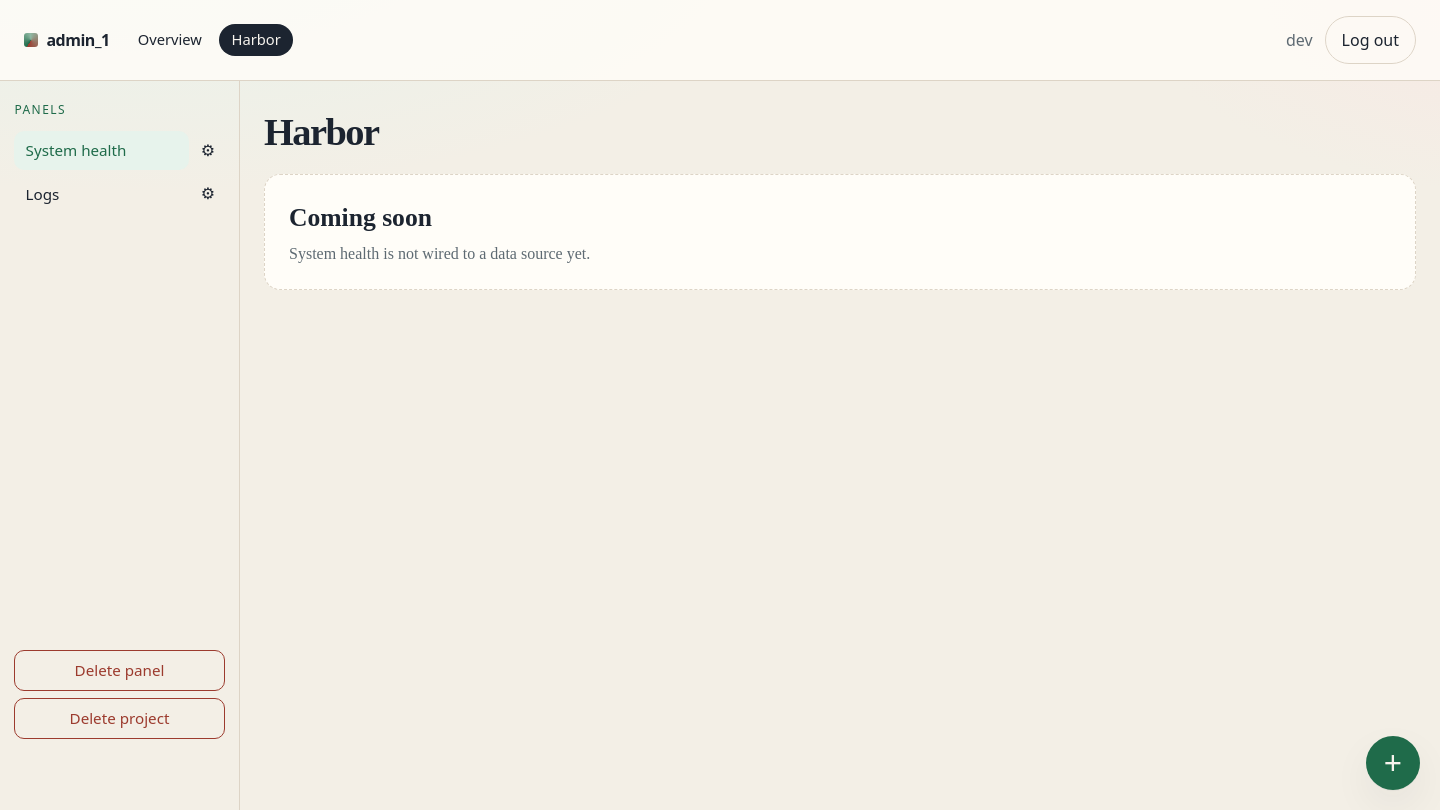
Test case: panel settings › keeps data source configuration on the settings route
Expected: the heading "Harbor" is shown, [264,111,378,153]
Expected: the heading "Coming soon" is shown, [289,203,432,232]
Step 1. Click the link named "System health settings" → (208, 150), box [201,142,215,159]
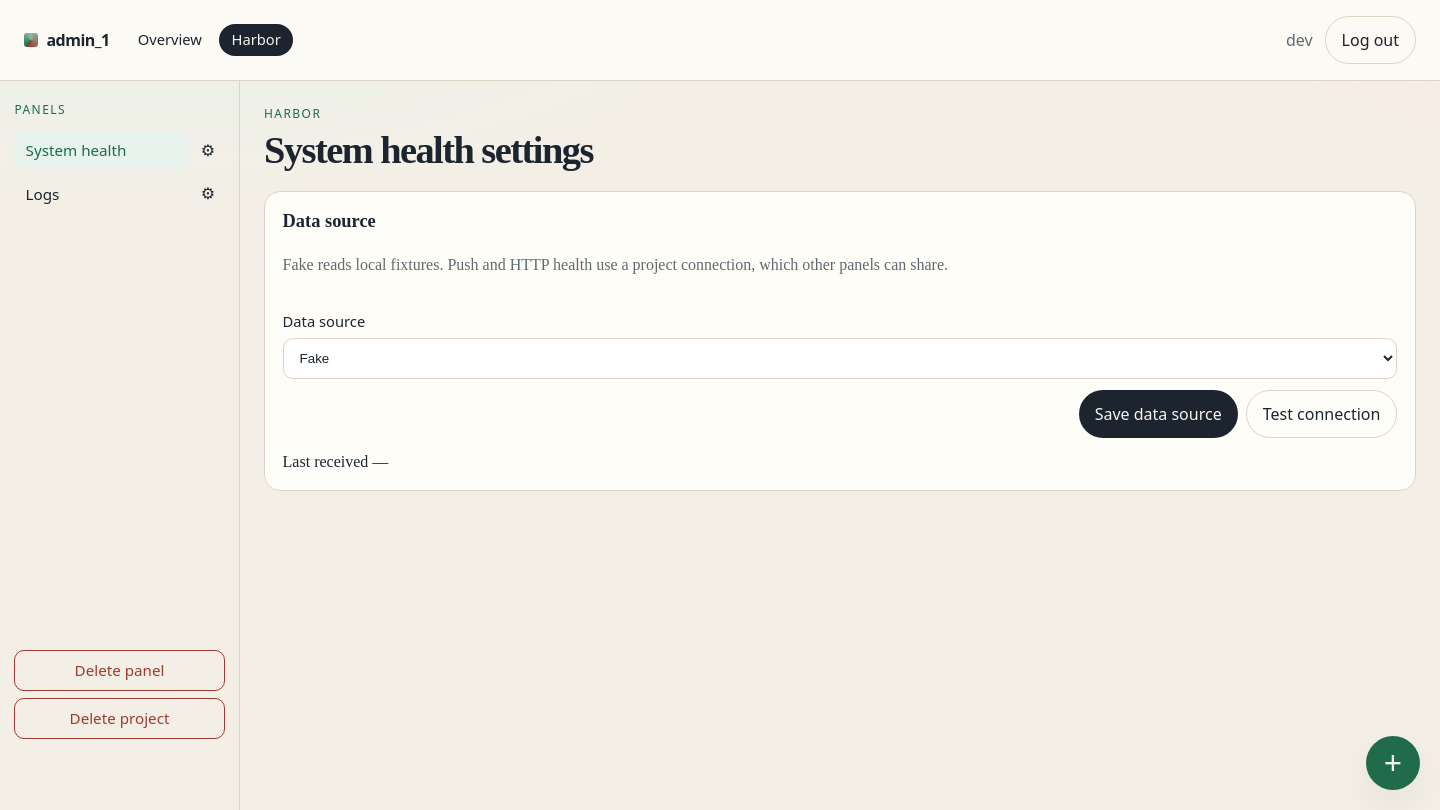
Expected: the text "a1_harborKeySECRET" is not shown
Expected: the heading "System health settings" is shown, [264,129,593,171]
Expected: the dropdown labelled "Data source" shows "Fake"
Step 2. Select "Push" in the dropdown labelled "Data source" → (840, 358), box [283,338,1397,379]
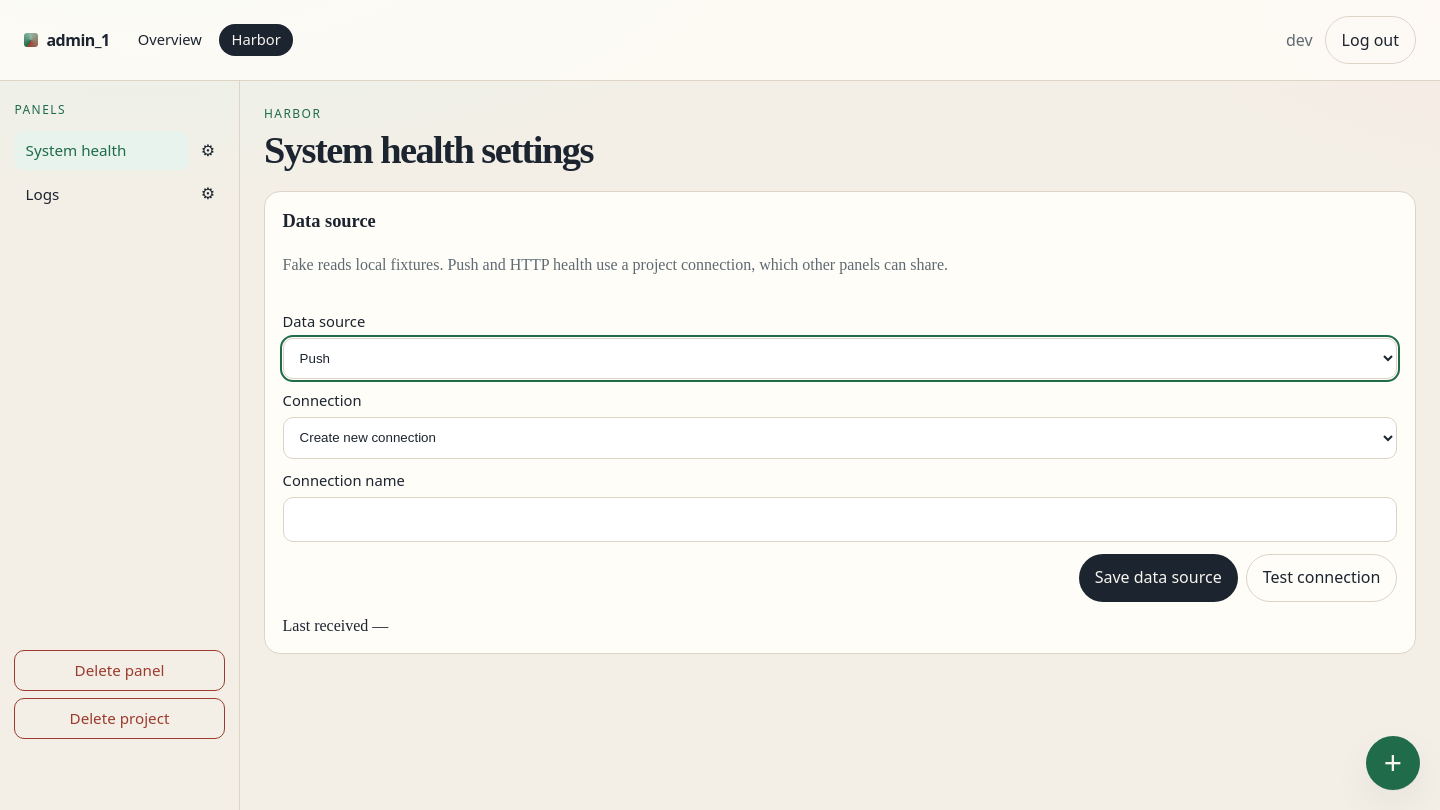
Step 3. Type "Harbor app" into the field labelled "Connection name" → (840, 519), box [283,497,1397,542]
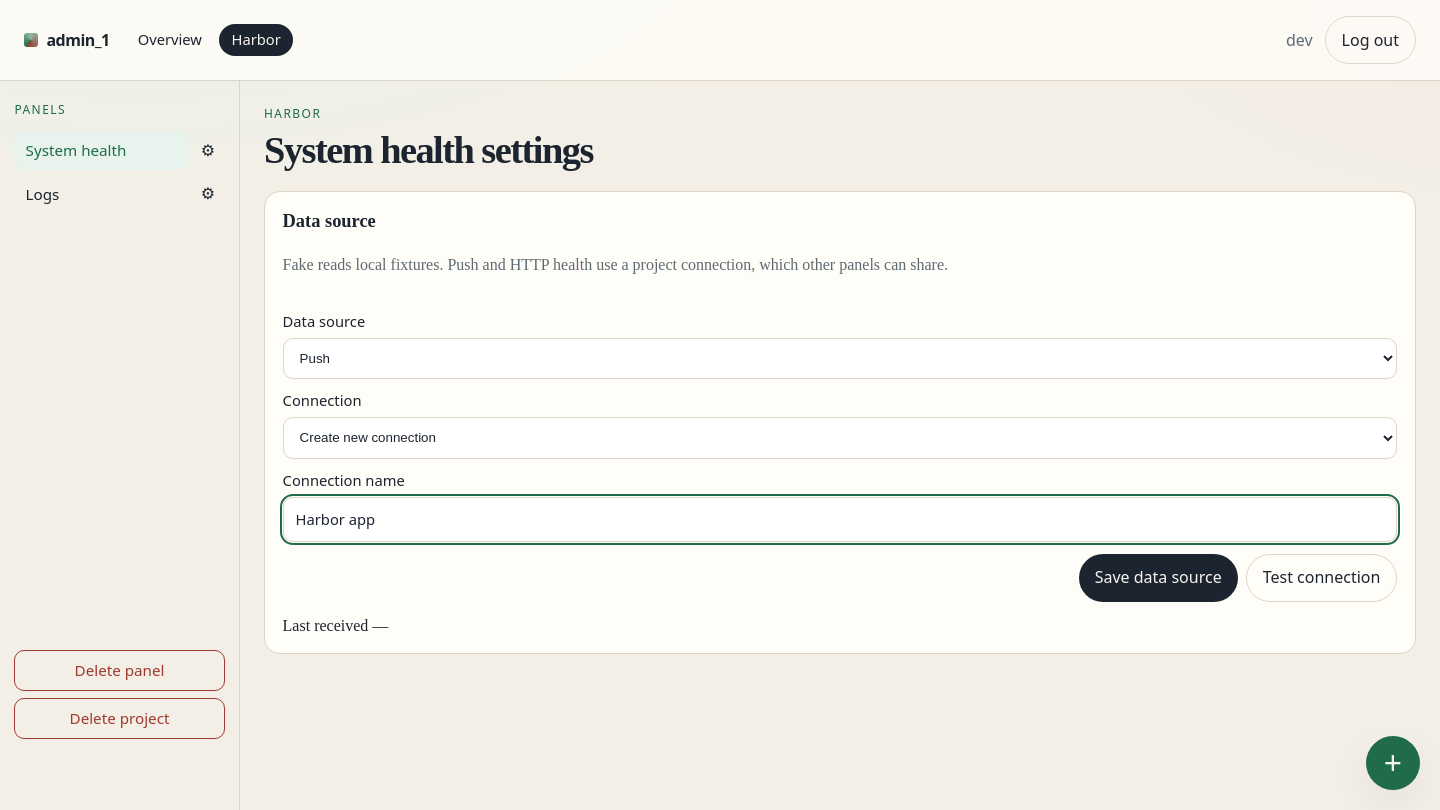
Step 4. Click the button "Save data source" → (1158, 578), box [1079,554,1238,602]
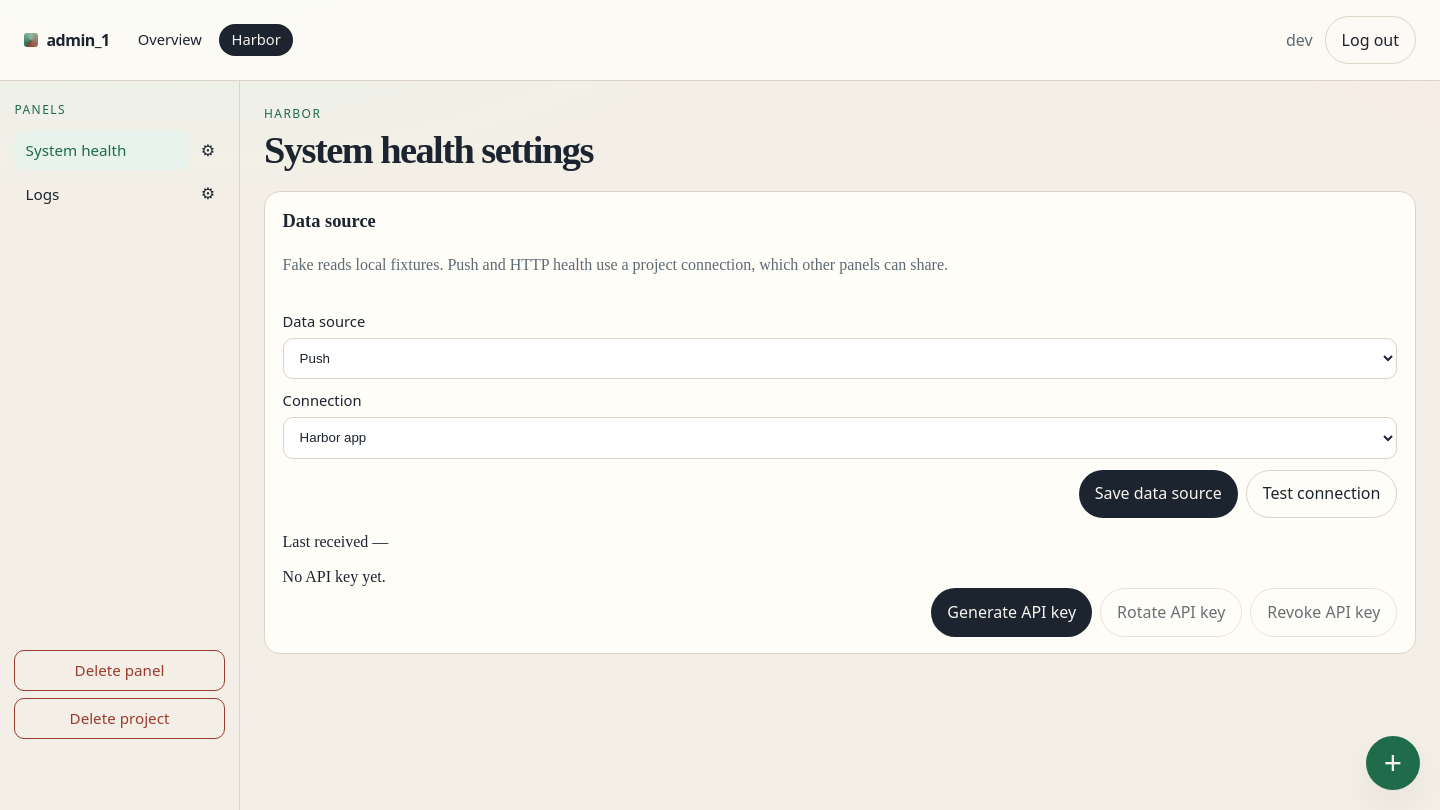
Step 5. Click the button "Generate API key" → (1012, 612), box [931,588,1092,636]
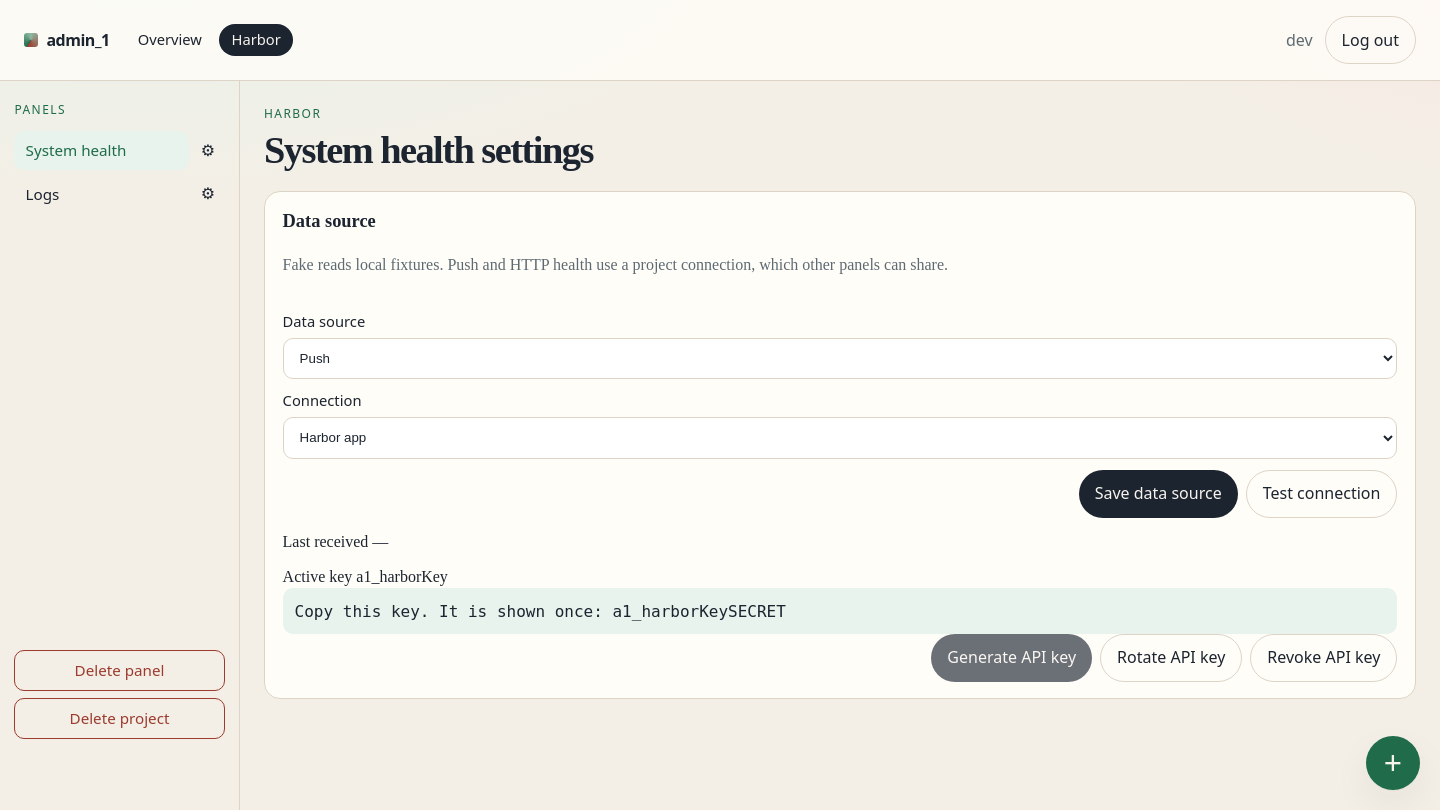
Expected: the text "Copy this key. It is shown once: a1_harborKeySECRET" is shown, [283,588,1397,634]
Step 6. Click the button "Test connection" → (1322, 494), box [1246,470,1397,518]
(page scrolled)
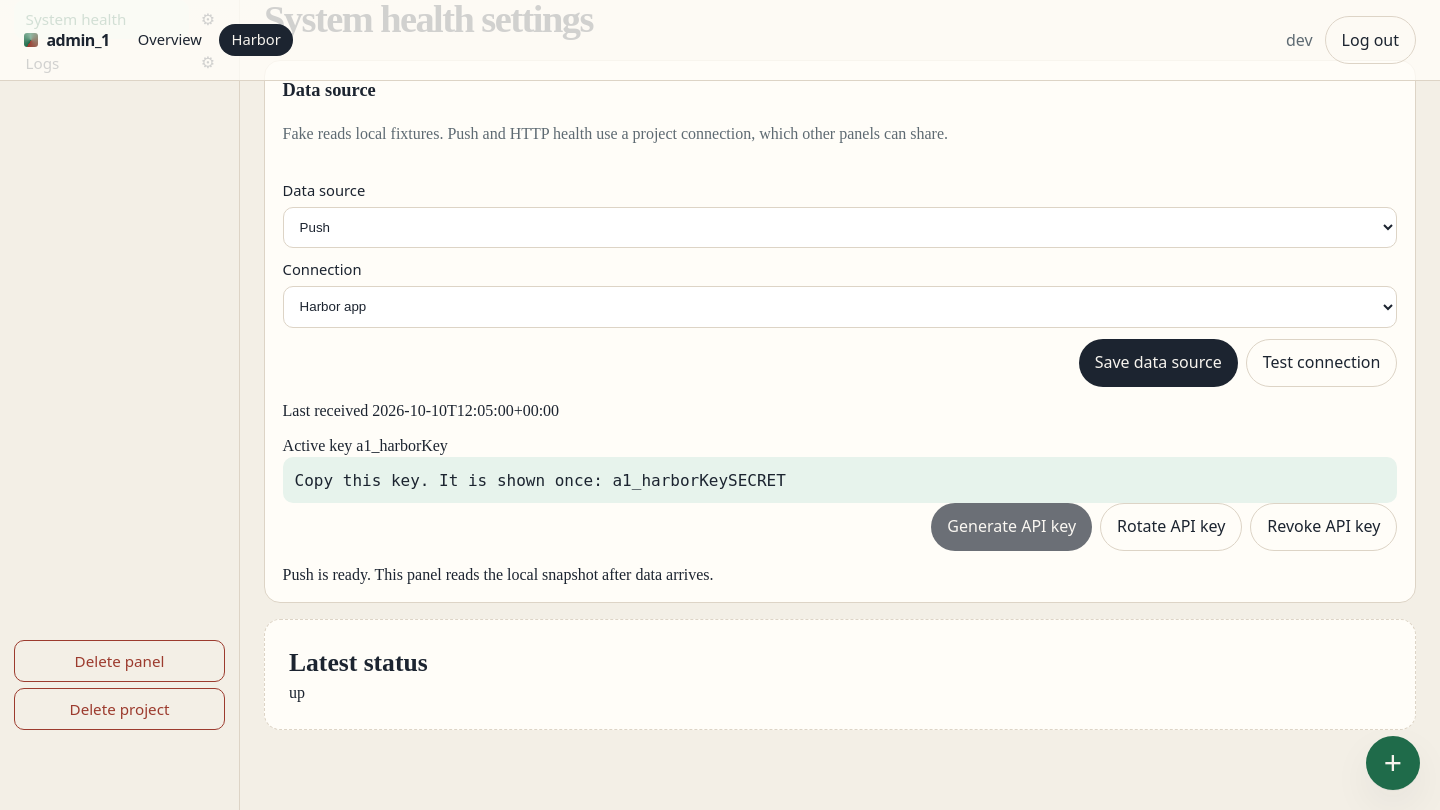
Expected: the text "Push is ready. This panel reads the local snapshot after data arrives." is shown, [283,566,714,583]
Expected: the text "Last received 2026-10-10T12:05:00+00:00" is shown, [283,402,559,419]
Expected: the heading "Latest status" is shown, [289,648,428,677]
